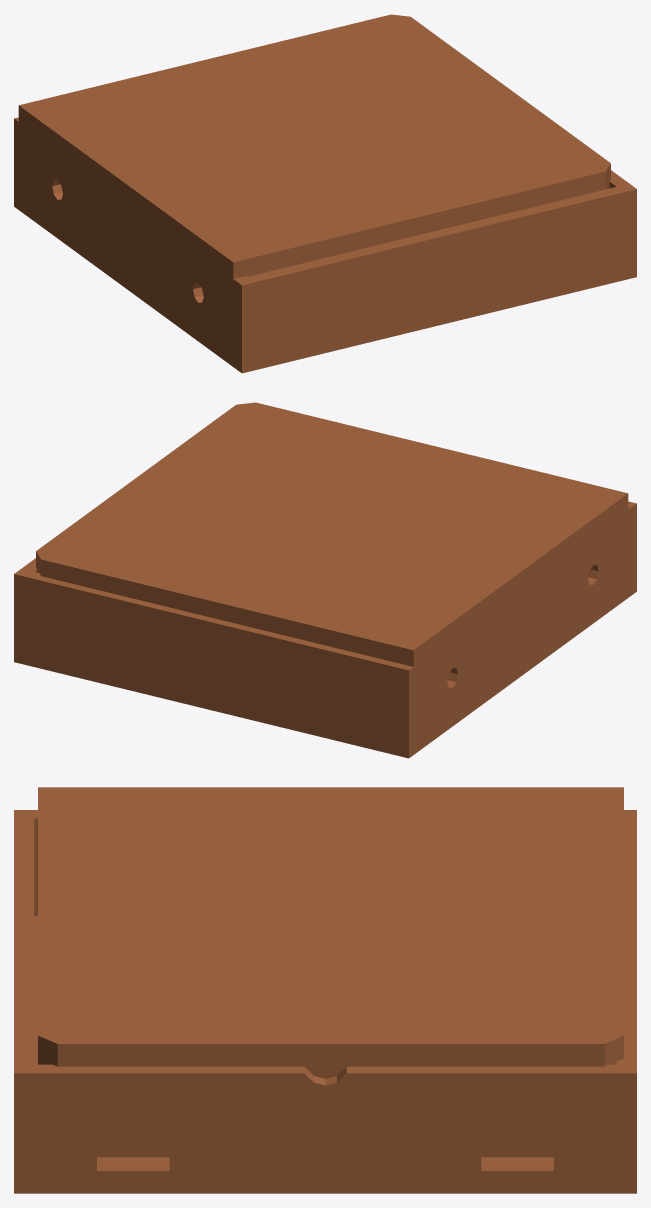
The model's file is CardboardBox_01.glb.
3 renders of one model, top to bottom at view 1: azimuth 30°, elevation 25°; view 2: azimuth 150°, elevation 25°; view 3: azimuth 270°, elevation 25°, orthographic. The views are drawn at different scales.
Parts seen in each view (by area): view 1: Mesh_Box_01; view 2: Mesh_Box_01; view 3: Mesh_Box_01.
Boxes of the visible parts, box(x1,y1,x2,y2) form: Mesh_Box_01: box(14, 14, 636, 373); Mesh_Box_01: box(14, 402, 636, 758); Mesh_Box_01: box(14, 787, 636, 1193).
Size of the model in its own units: 0.3 by 0.076 by 0.3.
1 material, 1 textured.
